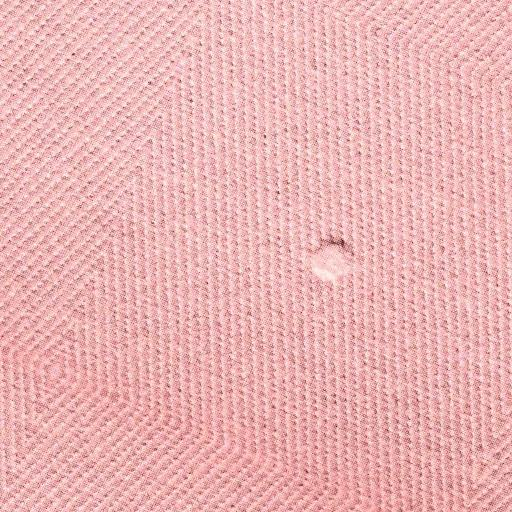knot: (301, 233, 366, 286)
